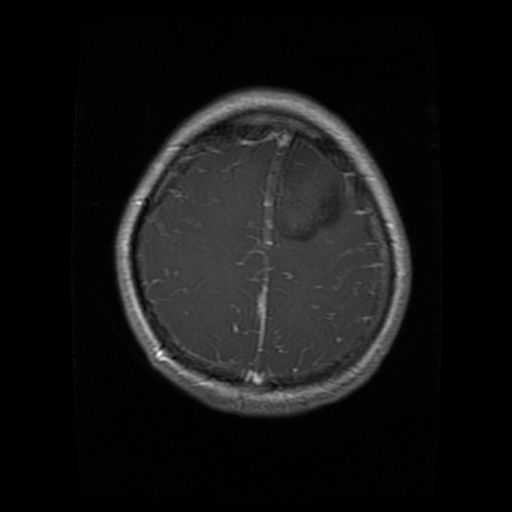glioma: (273, 142, 344, 240)
